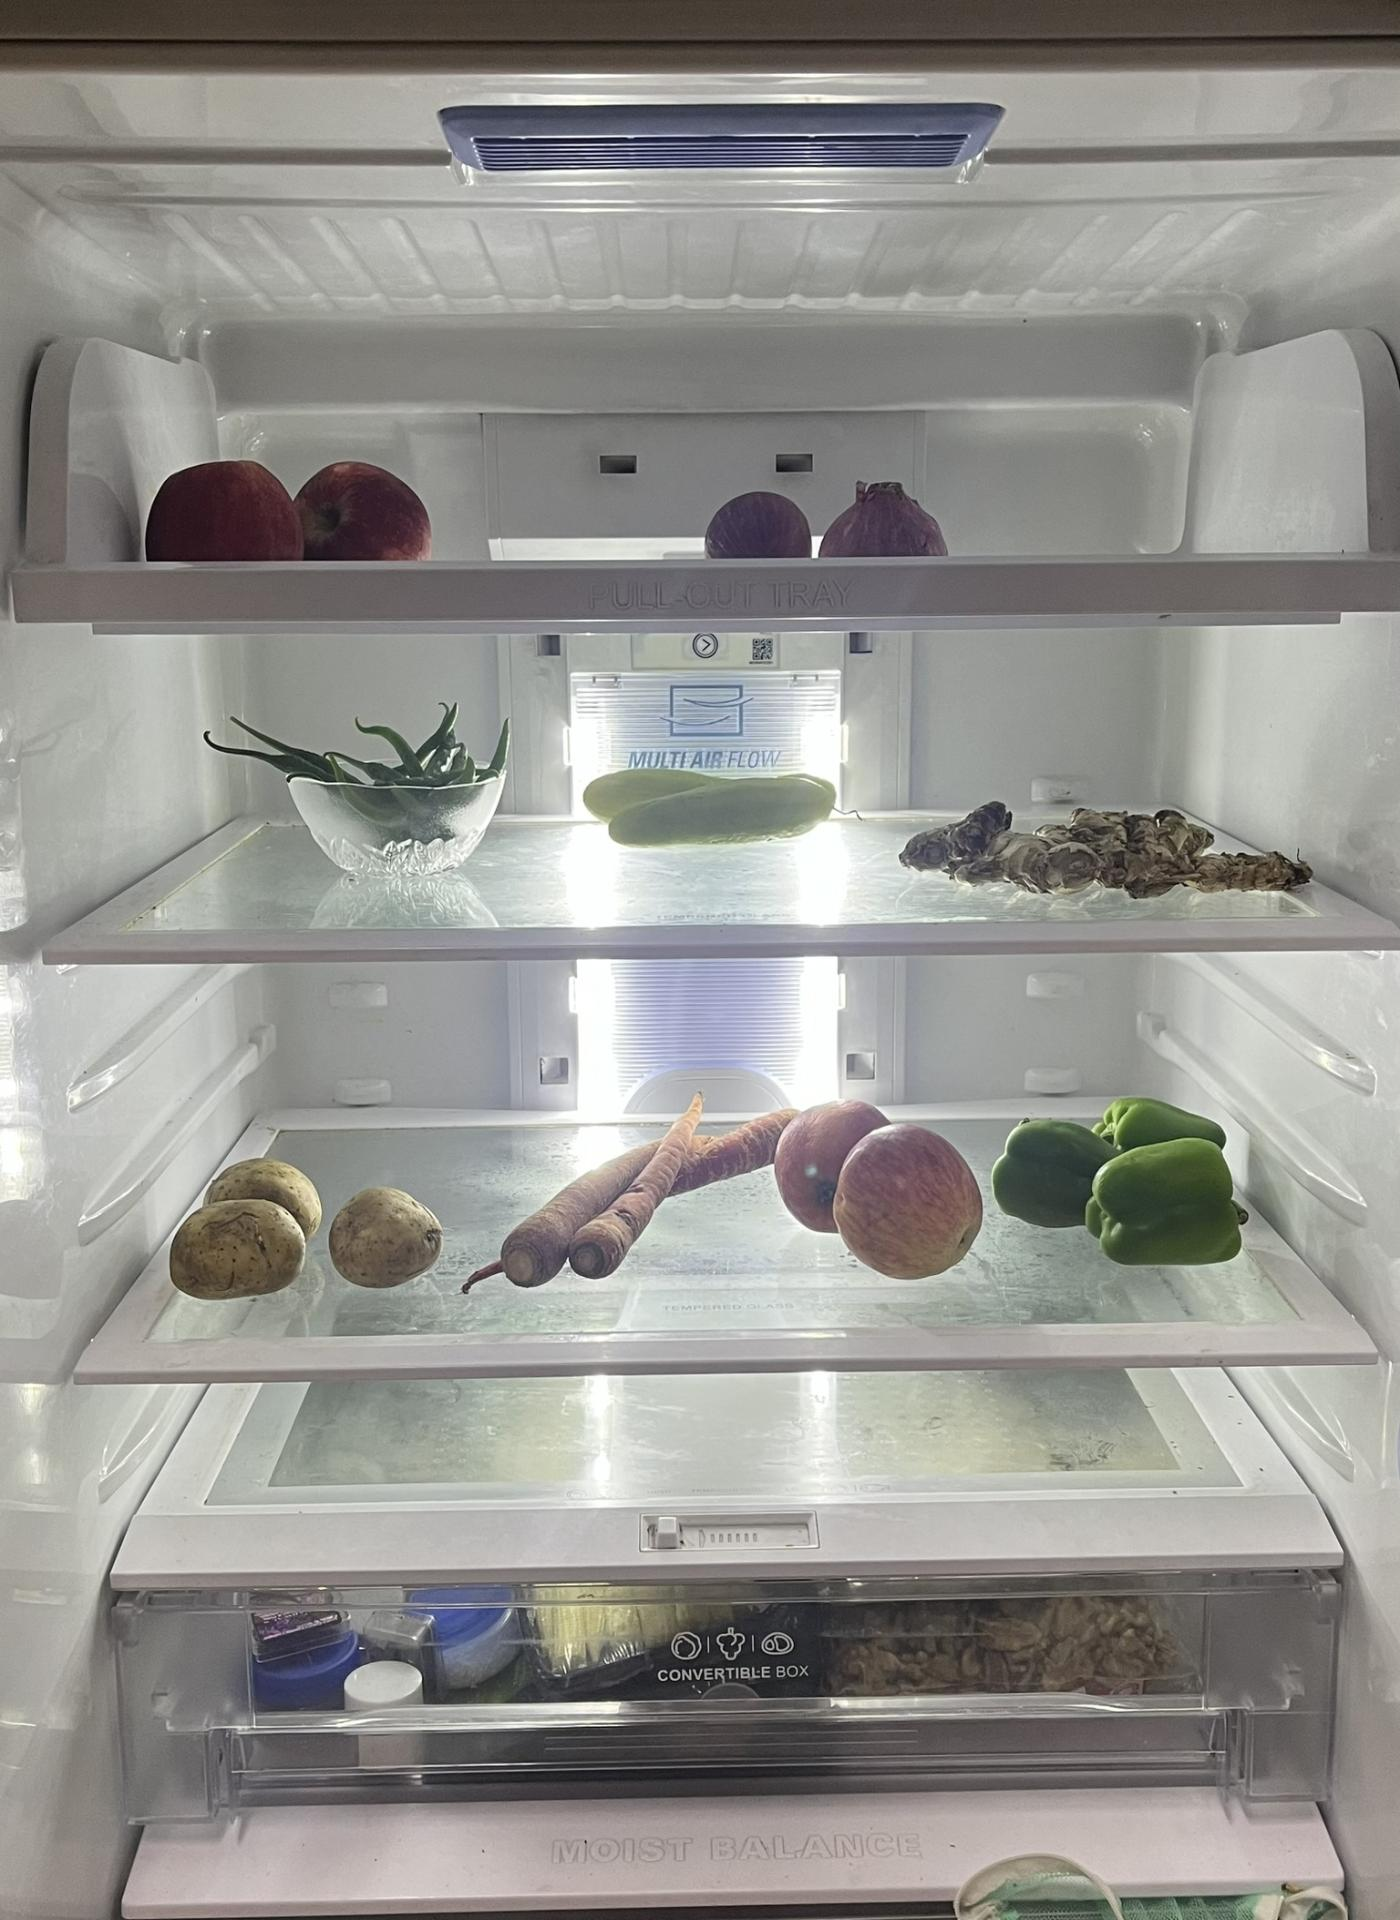apple: (775, 1106, 984, 1306), (137, 446, 438, 560)
capsicum: (990, 1100, 1263, 1270)
carrots: (459, 1093, 778, 1301)
chillies: (246, 699, 520, 838)
cucumber: (584, 769, 854, 850)
ginger: (911, 803, 1291, 903)
onion: (704, 486, 947, 562)
potato: (164, 1166, 331, 1307), (321, 1191, 449, 1298)
